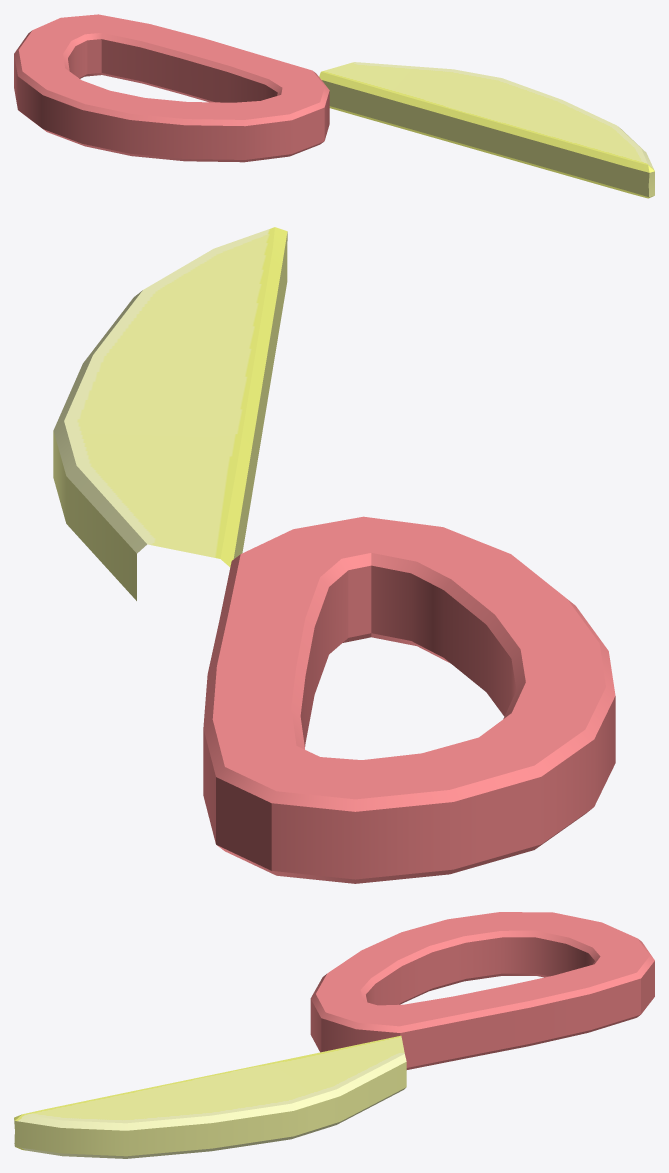
The model's file is ScissorsSecondModel.gltf.
The picture shows the model from 3 angles, top to bottom: view 1: azimuth 30°, elevation 25°; view 2: azimuth 150°, elevation 25°; view 3: azimuth 270°, elevation 25°; orthographic projection. The views are drawn at different scales.
Visible parts, largest first — view 1: ScissorsSecondModel; view 2: ScissorsSecondModel; view 3: ScissorsSecondModel.
Boxes of the visible parts, x1,y1,x2,y2 form: ScissorsSecondModel: (14, 14, 654, 198); ScissorsSecondModel: (53, 227, 615, 883); ScissorsSecondModel: (14, 912, 654, 1158).
Bounding box in the file's own units: 1.23 × 0.1224 × 1.57.
1 material, 1 textured.
